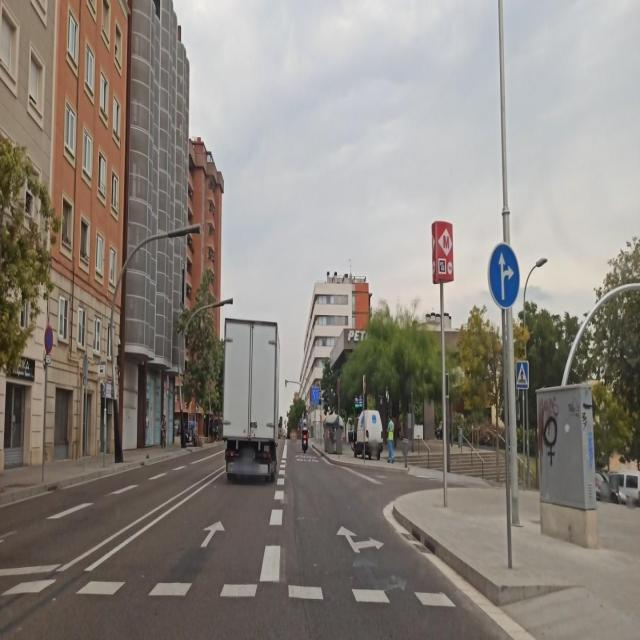forb_stopping: (44, 325, 53, 354)
